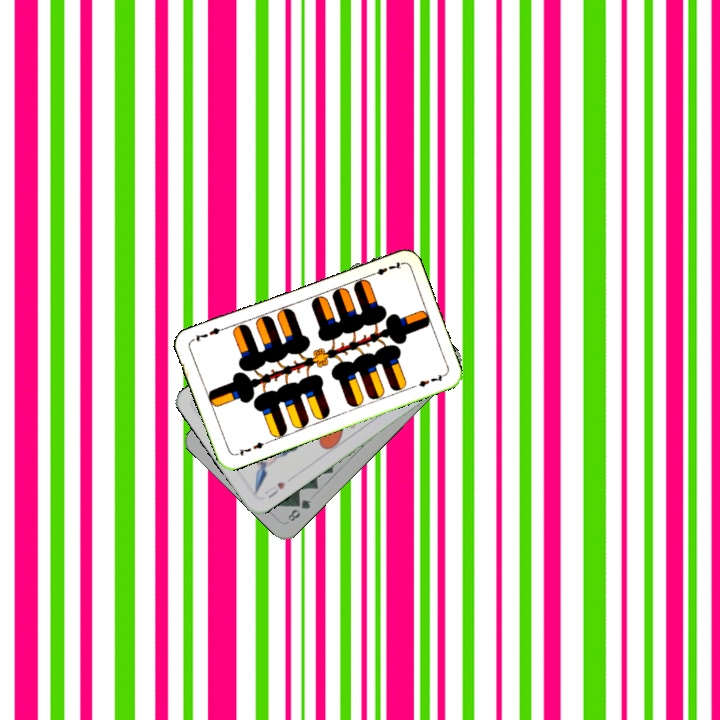E7: (231, 437, 270, 458), (365, 258, 404, 279)
G8: (284, 495, 314, 524)
HU: (260, 478, 288, 501)
